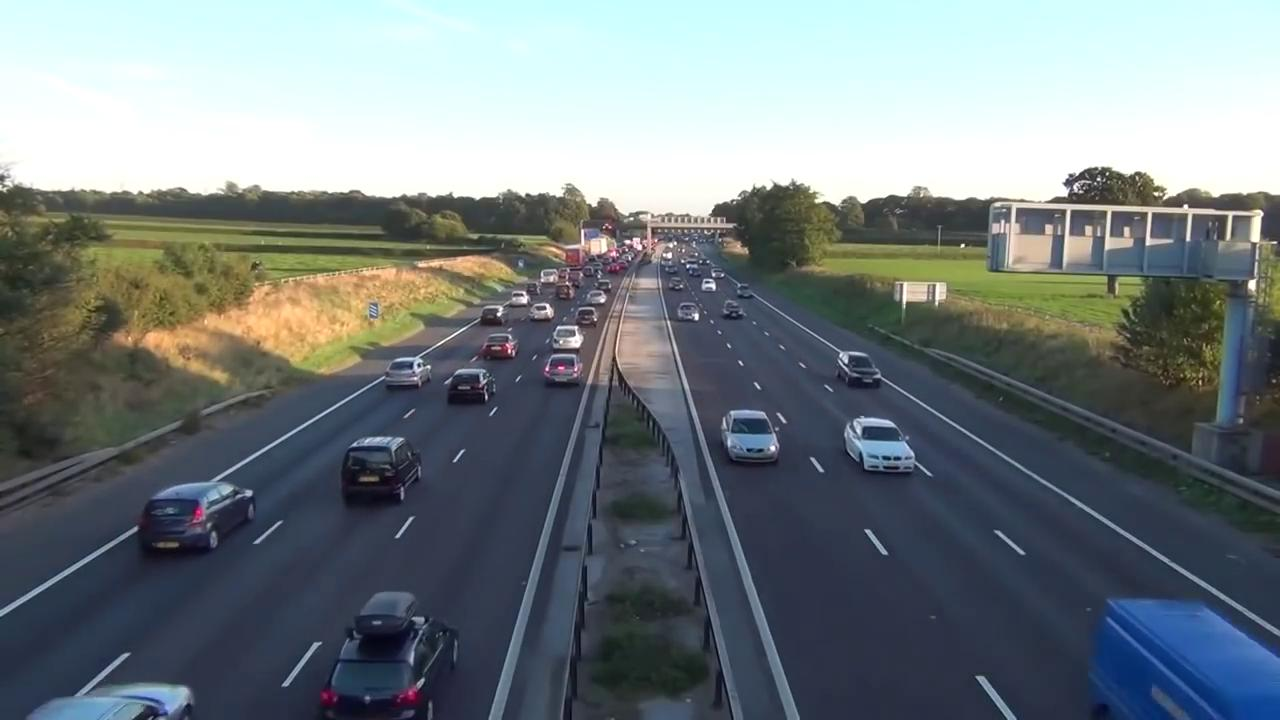car: (328, 586, 466, 720), (144, 476, 264, 551), (846, 416, 913, 472), (725, 418, 783, 458), (445, 368, 493, 405), (834, 352, 880, 388), (386, 359, 430, 390), (540, 356, 582, 387), (349, 437, 412, 454), (476, 333, 515, 360), (548, 326, 580, 349), (480, 305, 509, 326), (677, 302, 701, 321), (531, 303, 554, 321), (576, 307, 599, 325), (725, 303, 746, 318), (510, 291, 531, 305), (735, 281, 751, 298), (587, 292, 607, 305)
